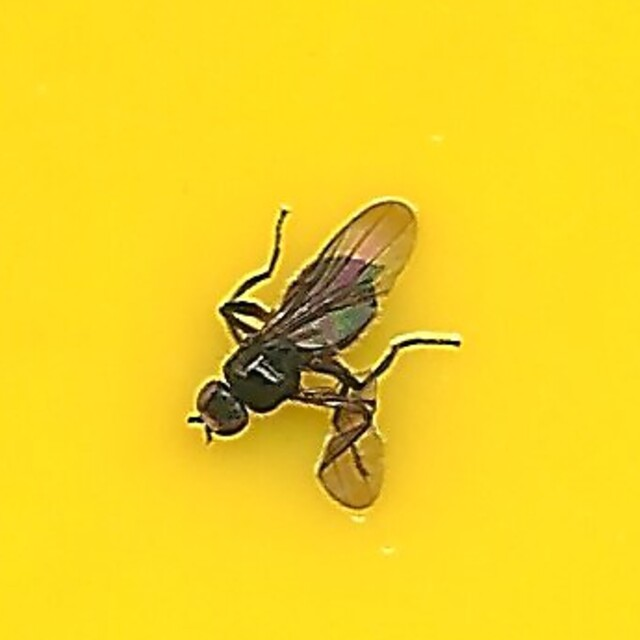Hymenoptera: (186, 190, 454, 450)
